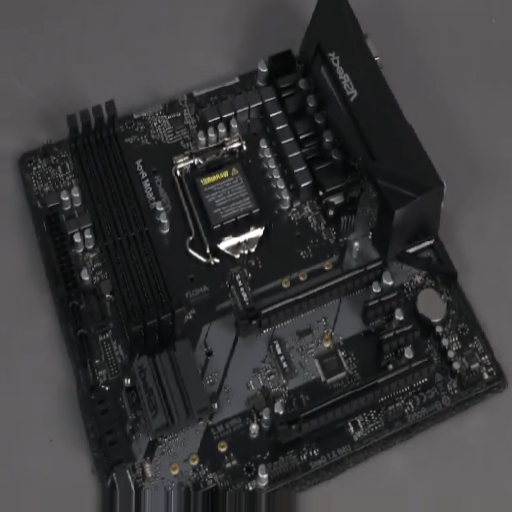CPU: (174, 137, 269, 261)
GPU: (276, 354, 434, 443), (234, 257, 386, 334)
MOTHERBOARD: (29, 48, 506, 512)
RAM: (67, 98, 186, 353)
SSD: (226, 268, 257, 310), (267, 337, 294, 376)
